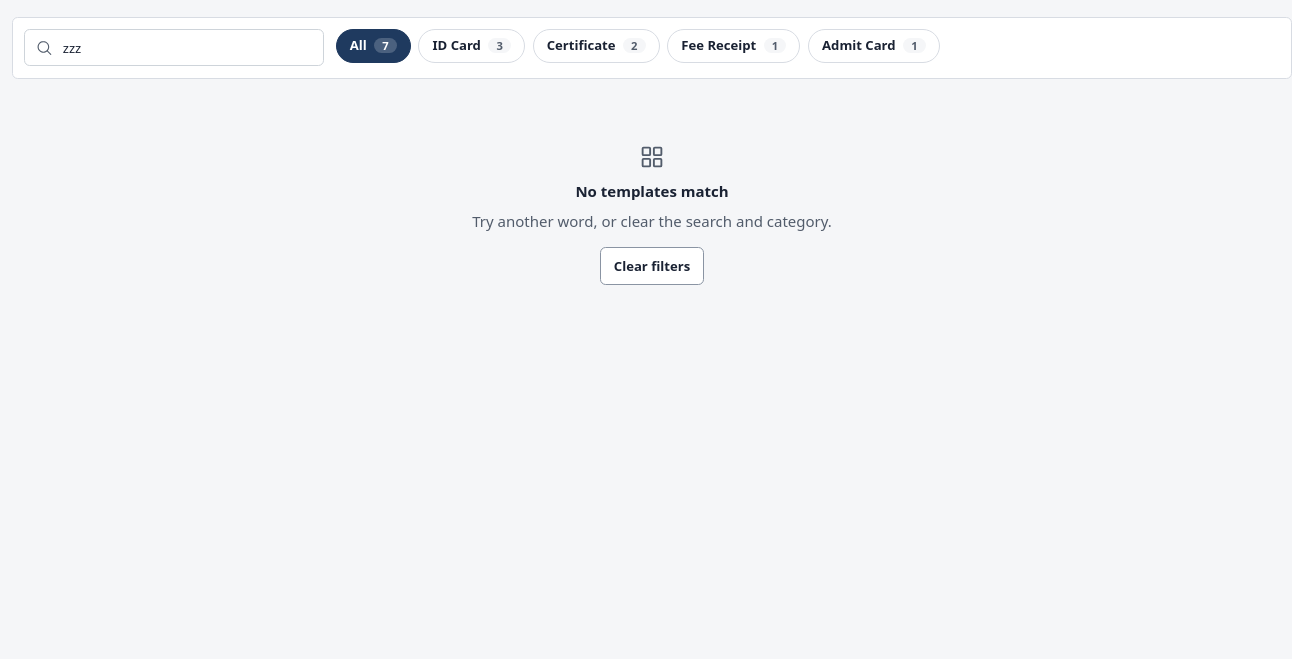
TemplateGalleryPage › explains when nothing matches the search
Check: the text "No templates match" is shown, box [575,180,729,202]
Click the button "Clear filters".
click(652, 266)  # box [600,247,704,285]
(page scrolled)
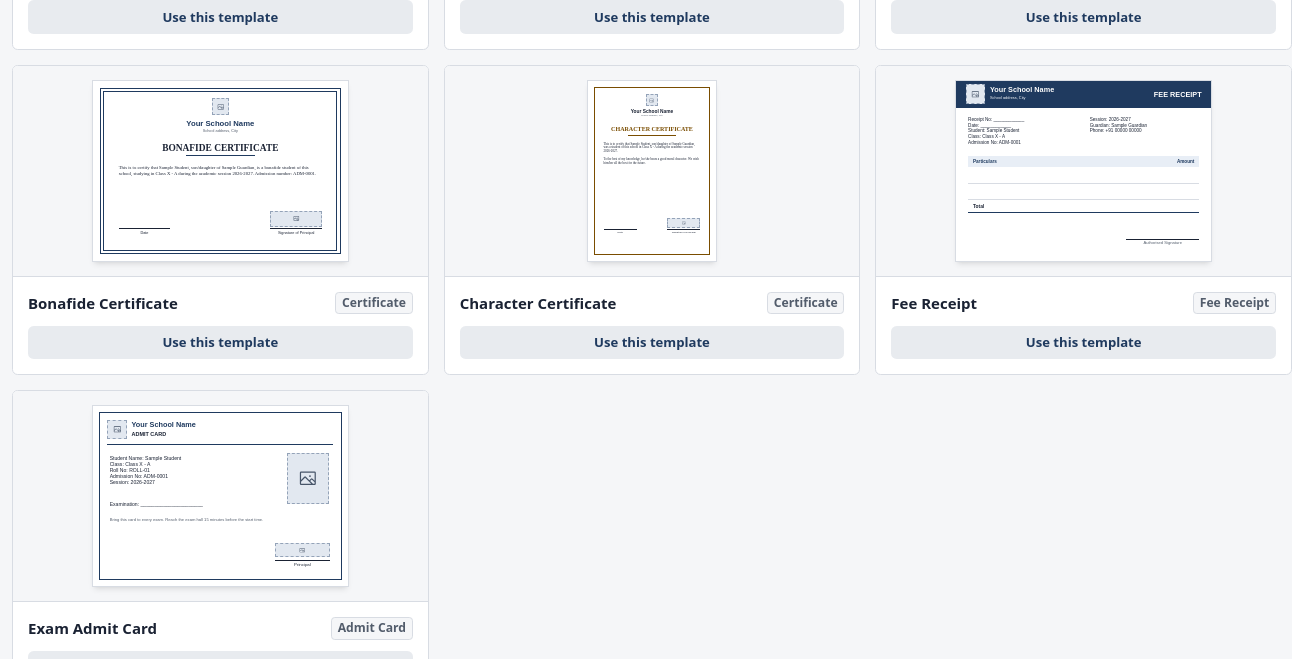
Check: the heading "Fee Receipt" is shown, box [891,292,977,314]
